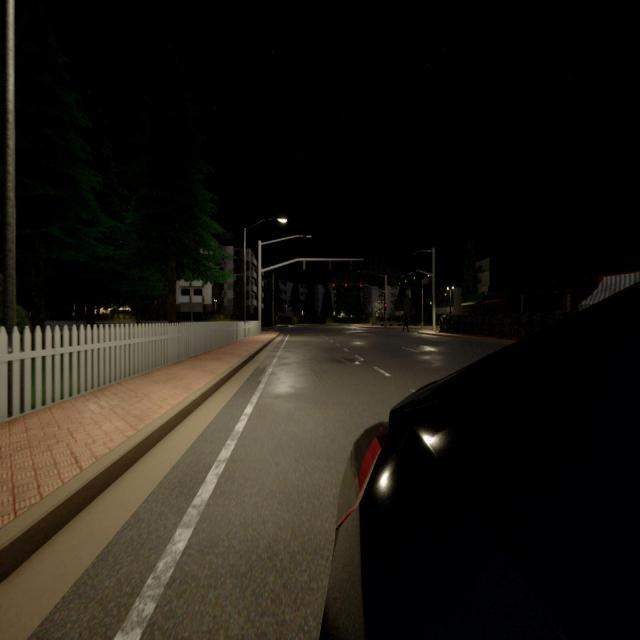Pedestrian: (402, 308, 409, 332)
Vehicle: (322, 285, 640, 640)
traffic_light: (303, 259, 305, 269), (384, 304, 387, 310), (414, 272, 416, 280), (404, 276, 406, 282), (430, 301, 432, 305), (332, 284, 335, 286), (360, 284, 362, 287), (398, 283, 401, 285), (345, 284, 347, 286)
